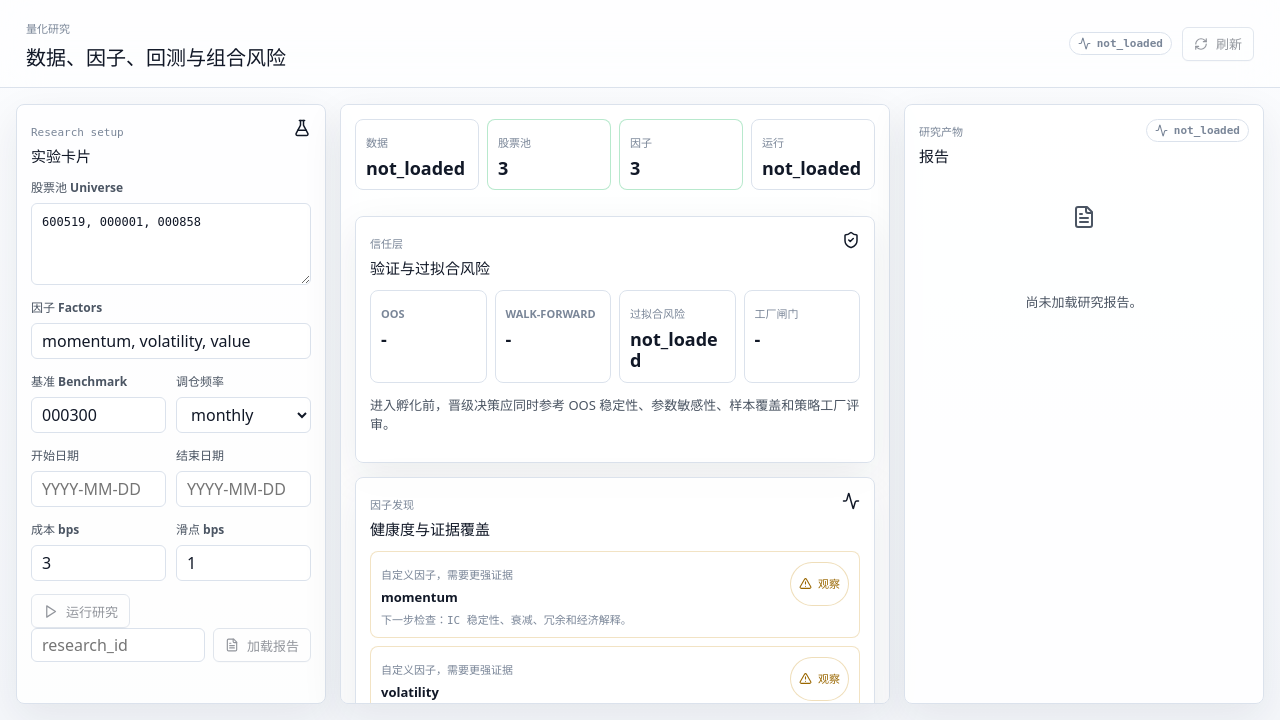
Test case: QuantResearchWorkspace › loads a historical quant report by research id
This screenshot has width=1280, height=720.
In the field with placeholder "research_id": (118, 645) [31, 628, 205, 662], type "qr_history"
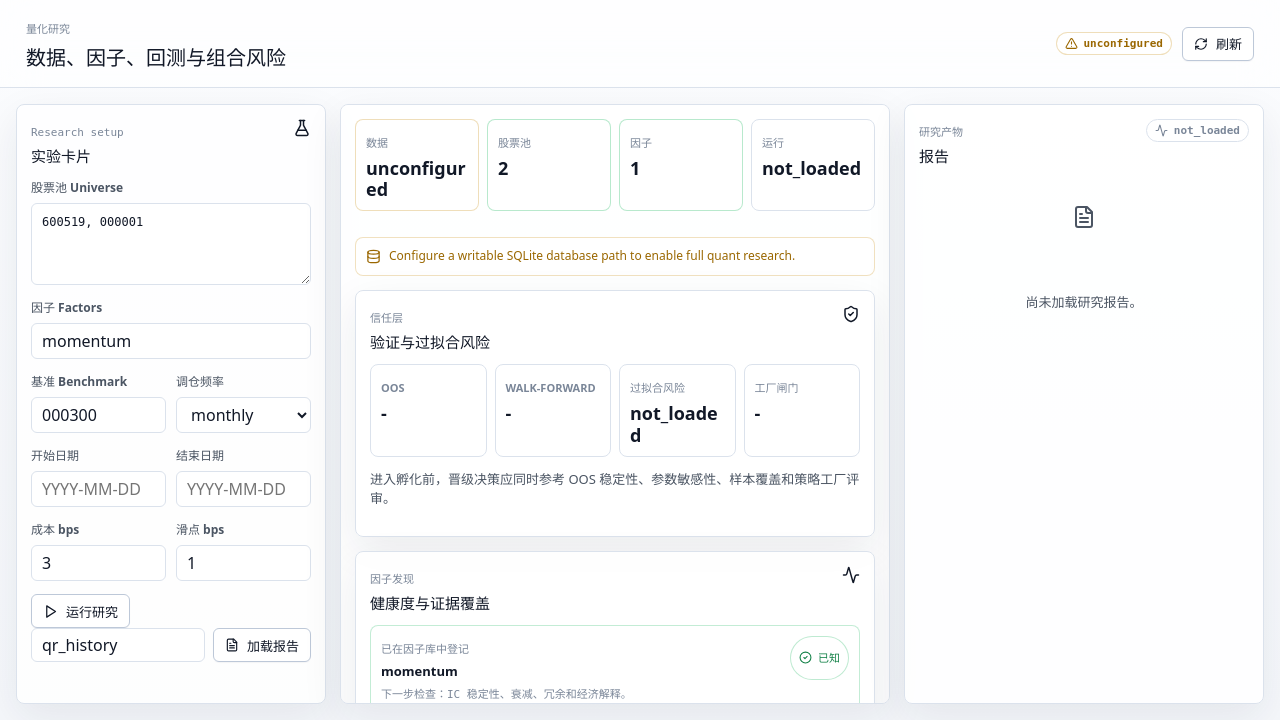
Click the button "加载报告": (262, 645) [213, 628, 311, 662]
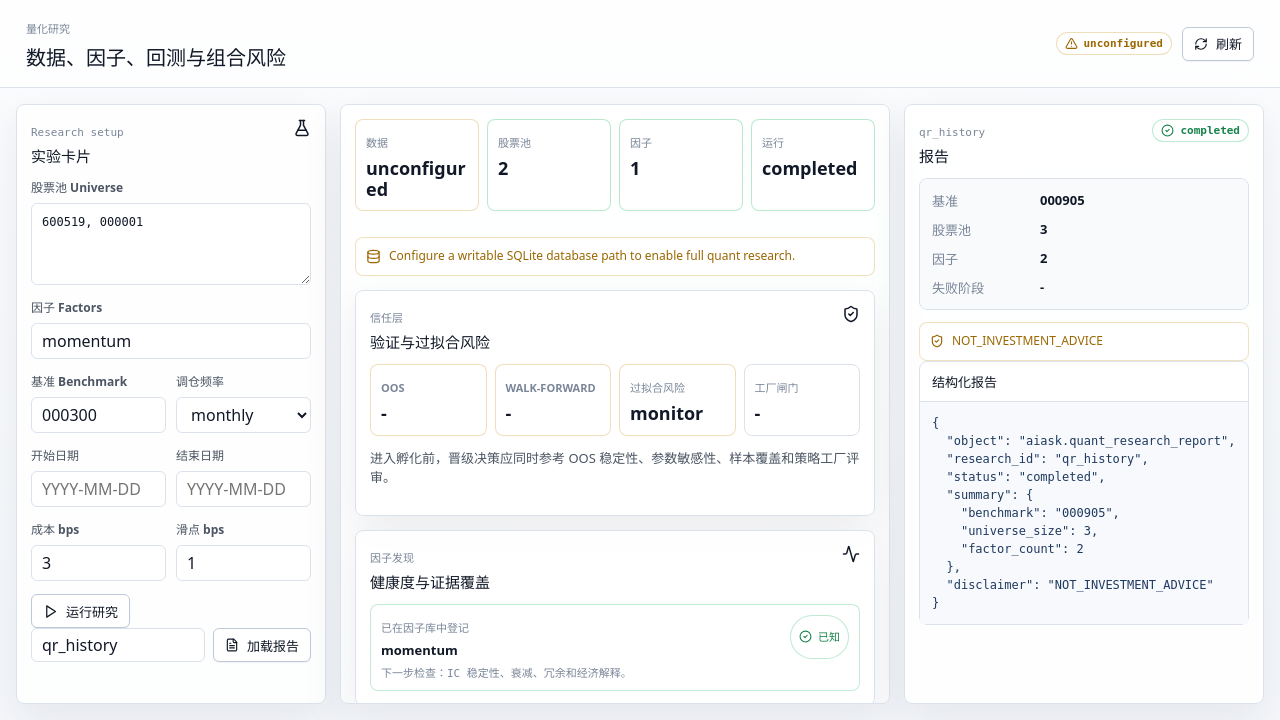
expect the text "qr_history" is shown: met, box [919, 126, 985, 139]
expect the text "000905" is shown: met, box [1040, 191, 1085, 209]
